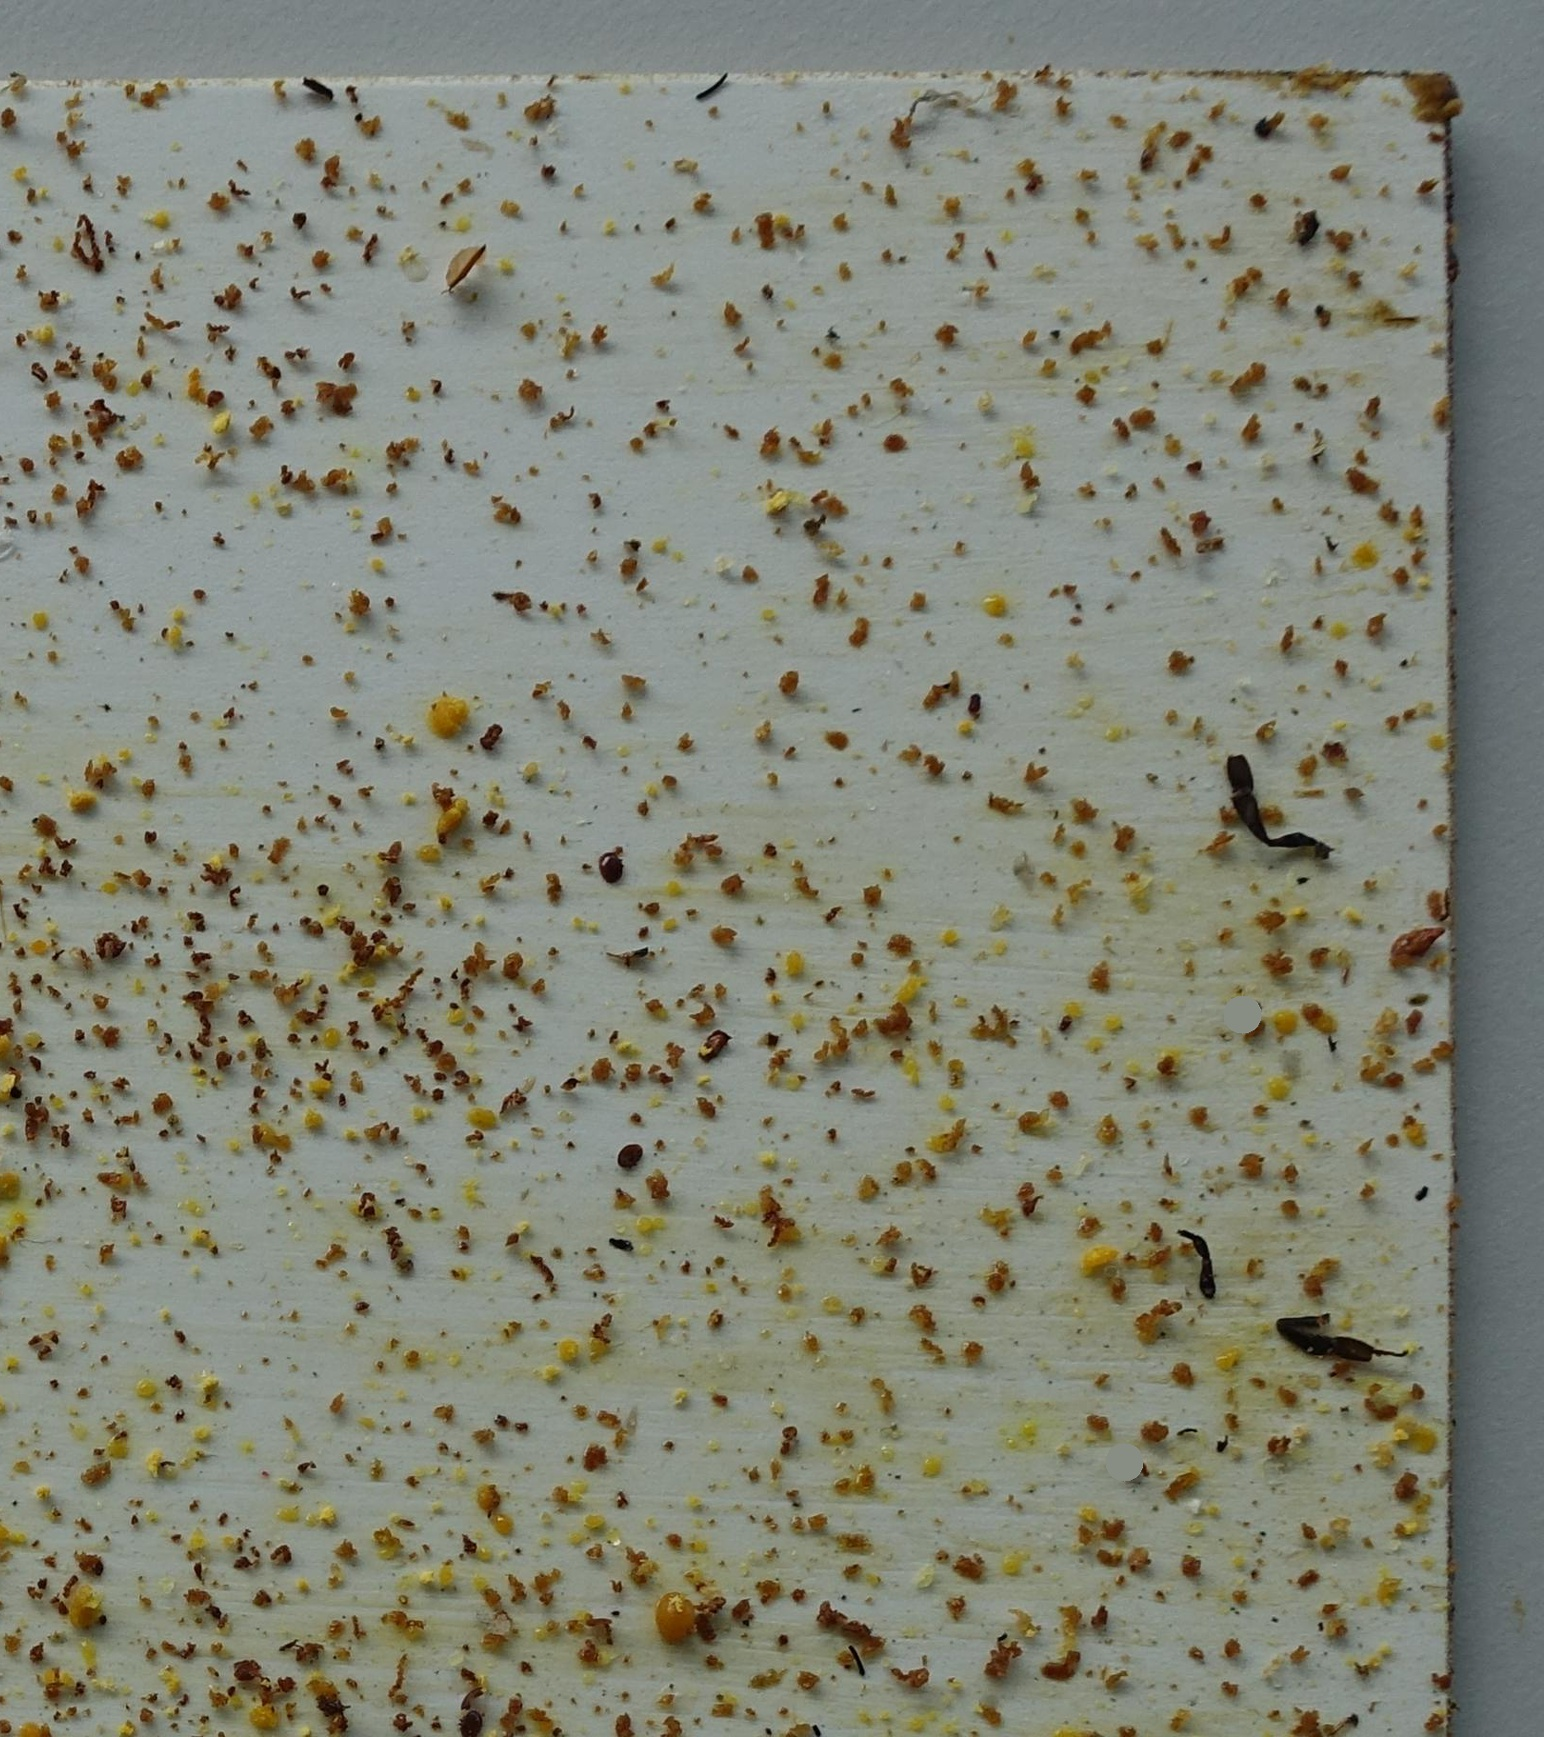Varroa: (616, 1140, 642, 1166), (599, 858, 624, 883)
